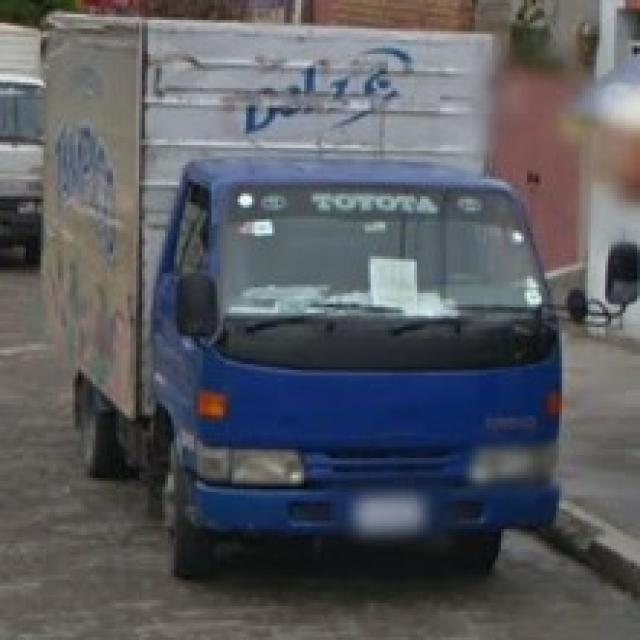cars: (45, 20, 566, 584)
